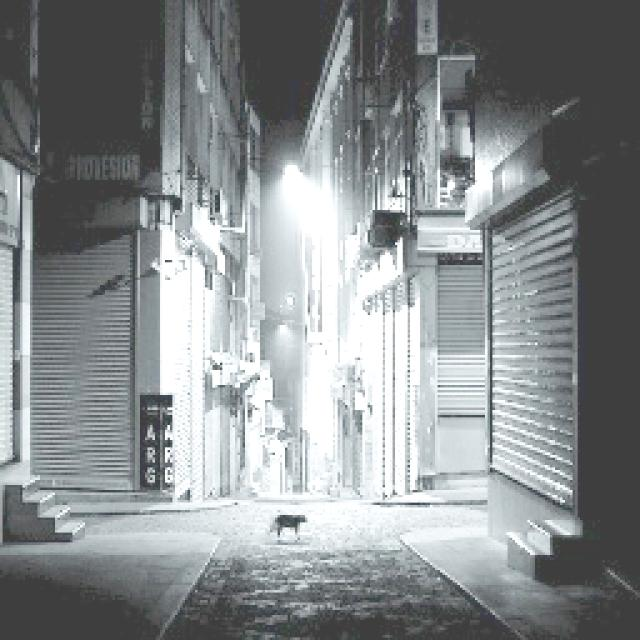cat: (256, 493, 320, 551)
